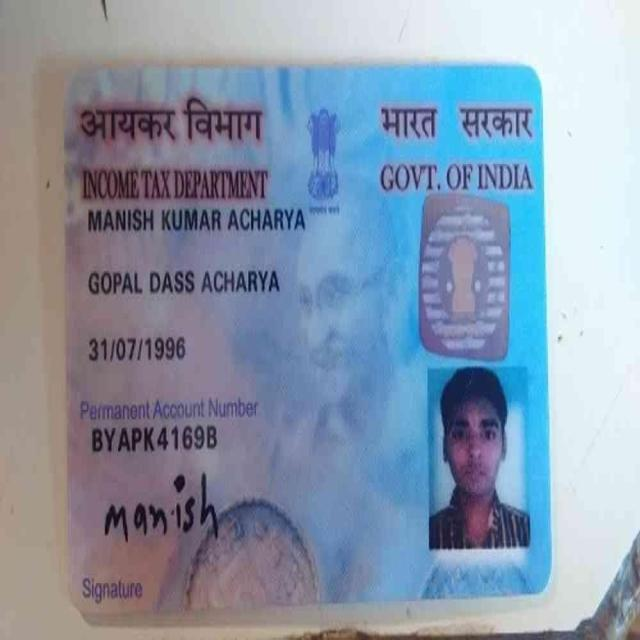pan_card: (68, 77, 547, 615)
